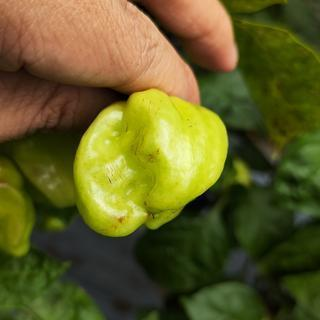Grade-B: (70, 89, 234, 235)
